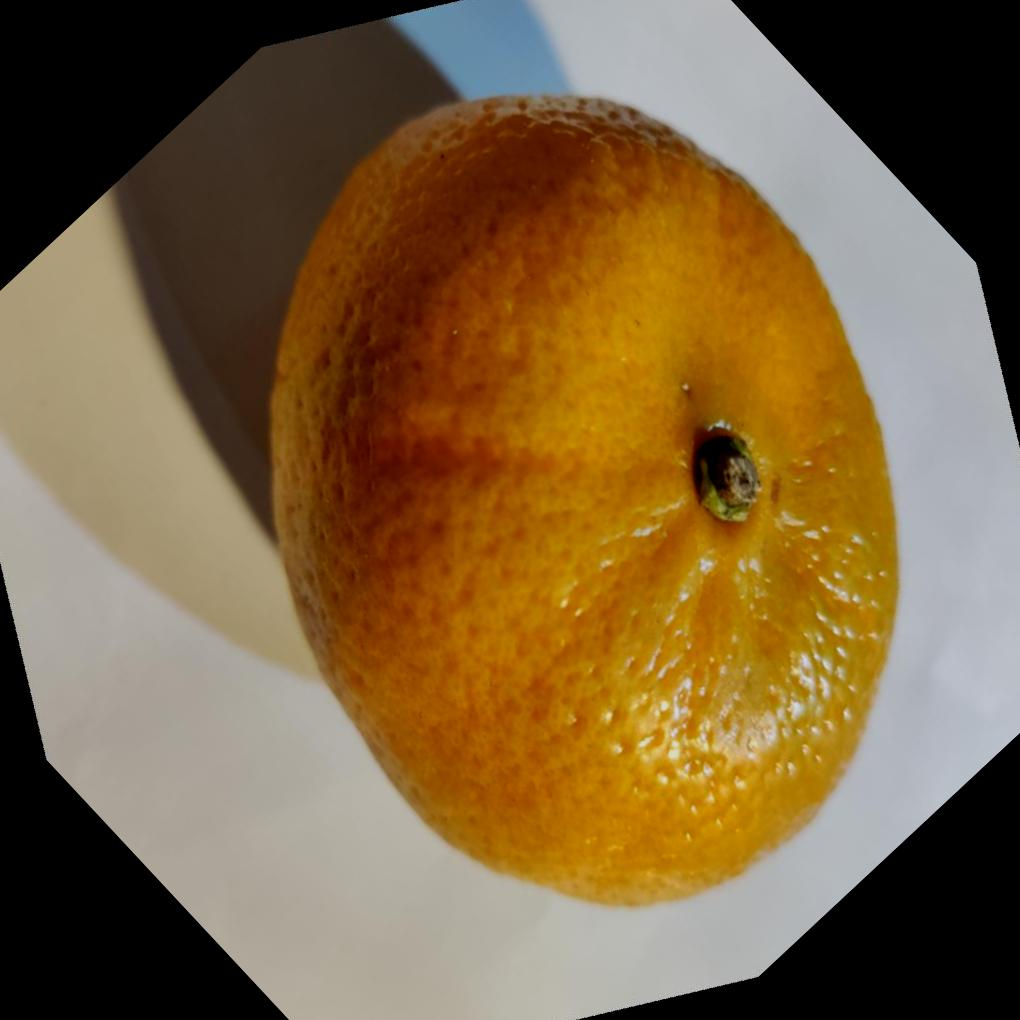FreshGuava: (263, 84, 901, 908)
